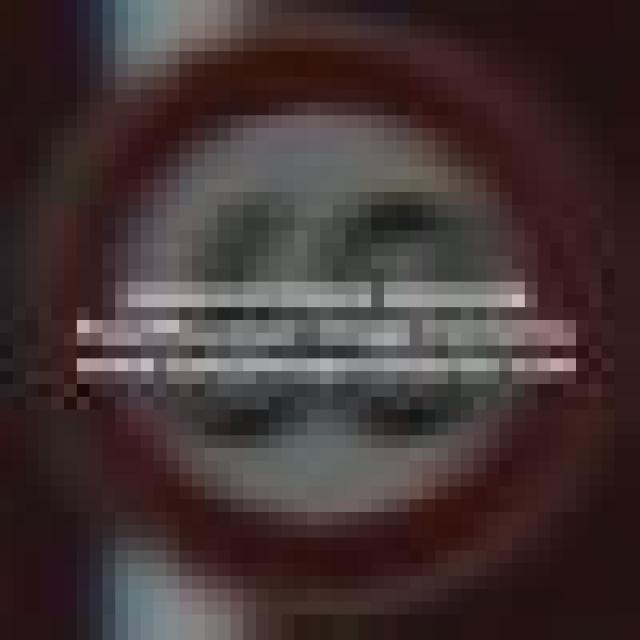SPEED_LIMIT_60: (51, 26, 576, 550)
